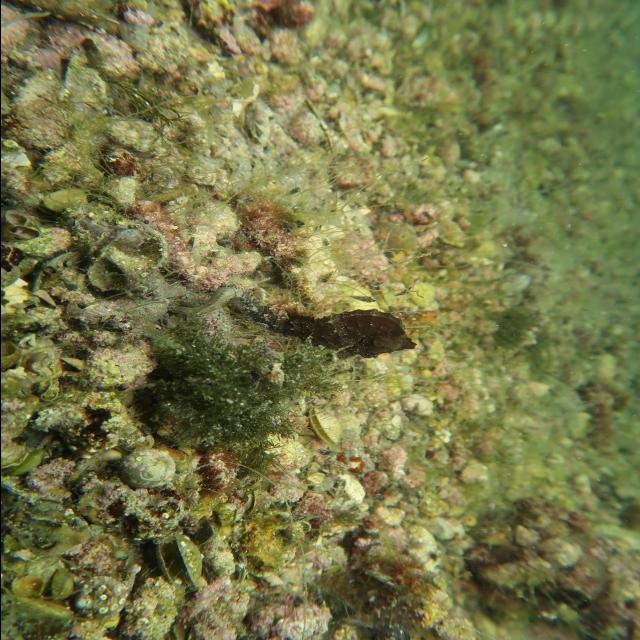Hippo: (331, 328, 424, 366)
